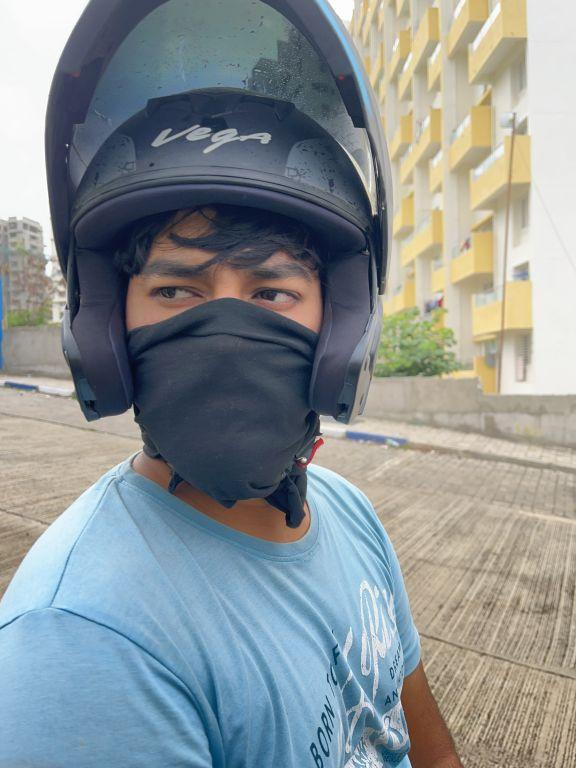helmet: (25, 0, 409, 537)
